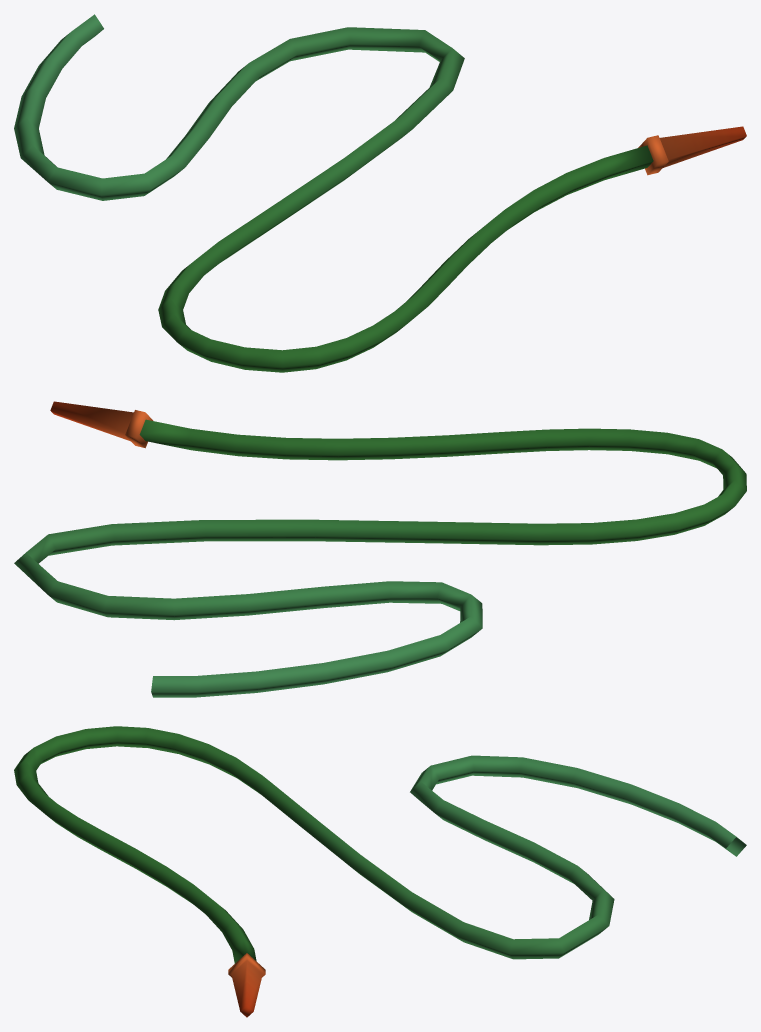
The model's file is SM_WaterPipe_01.fbx.
3 views of the same model, one above another, from view 1: azimuth 30°, elevation 25°; view 2: azimuth 150°, elevation 25°; view 3: azimuth 270°, elevation 25° (orthographic). The views are drawn at different scales.
Parts seen in each view (by area): view 1: SM_WaterPipe_01; view 2: SM_WaterPipe_01; view 3: SM_WaterPipe_01.
Boxes of the visible parts, x1,y1,x2,y2 form: SM_WaterPipe_01: (14, 14, 746, 372); SM_WaterPipe_01: (14, 401, 746, 697); SM_WaterPipe_01: (14, 726, 746, 1017).
Bounding box in the file's own units: 2.09 × 0.1175 × 2.31.
